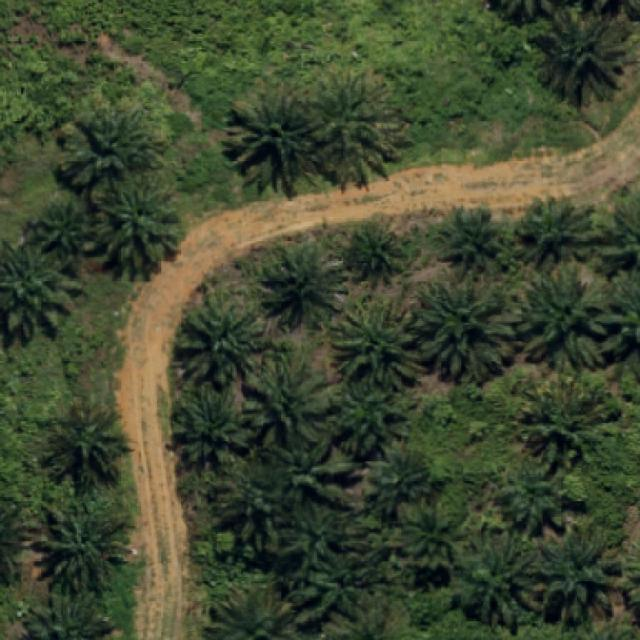Kelapa_Sawit: (305, 66, 412, 192), (51, 92, 164, 206), (420, 272, 518, 386), (222, 83, 320, 195), (33, 489, 133, 598), (240, 350, 332, 458), (536, 516, 624, 626), (91, 170, 180, 278), (518, 264, 607, 370), (331, 297, 427, 394), (518, 371, 612, 469), (177, 286, 261, 392), (539, 11, 626, 111), (461, 530, 541, 635), (255, 235, 342, 330), (265, 430, 364, 510), (172, 382, 258, 472), (49, 398, 129, 494), (215, 472, 300, 560), (517, 194, 605, 268), (390, 496, 472, 572), (332, 386, 410, 462), (439, 202, 508, 283), (502, 459, 568, 533), (345, 216, 407, 282), (38, 199, 88, 259)
